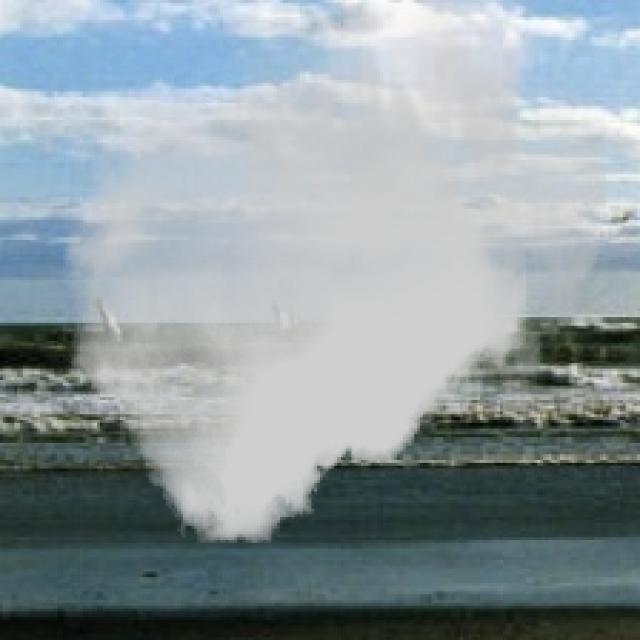Smoke: (63, 0, 606, 543)
